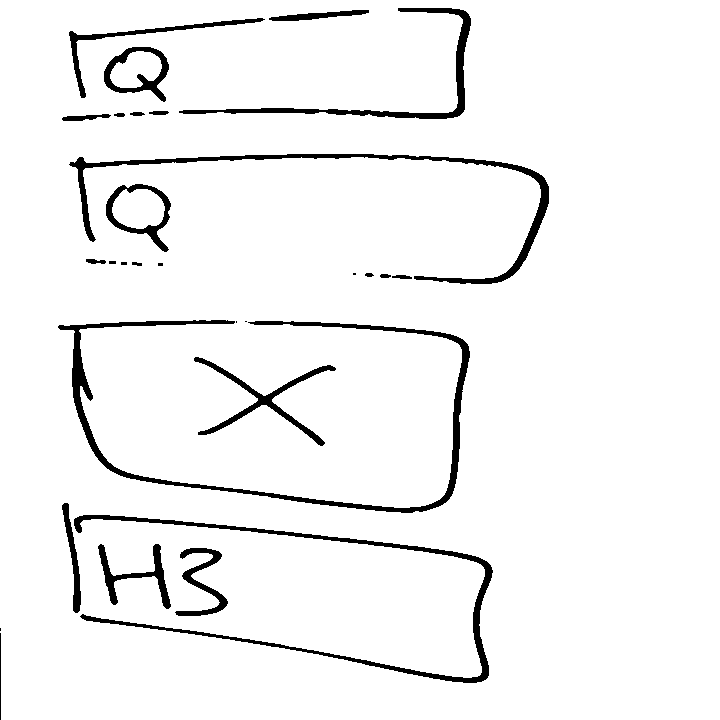heading3: (53, 499, 498, 691)
picture: (52, 319, 476, 519)
search bar: (67, 154, 556, 290), (53, 8, 478, 125)
